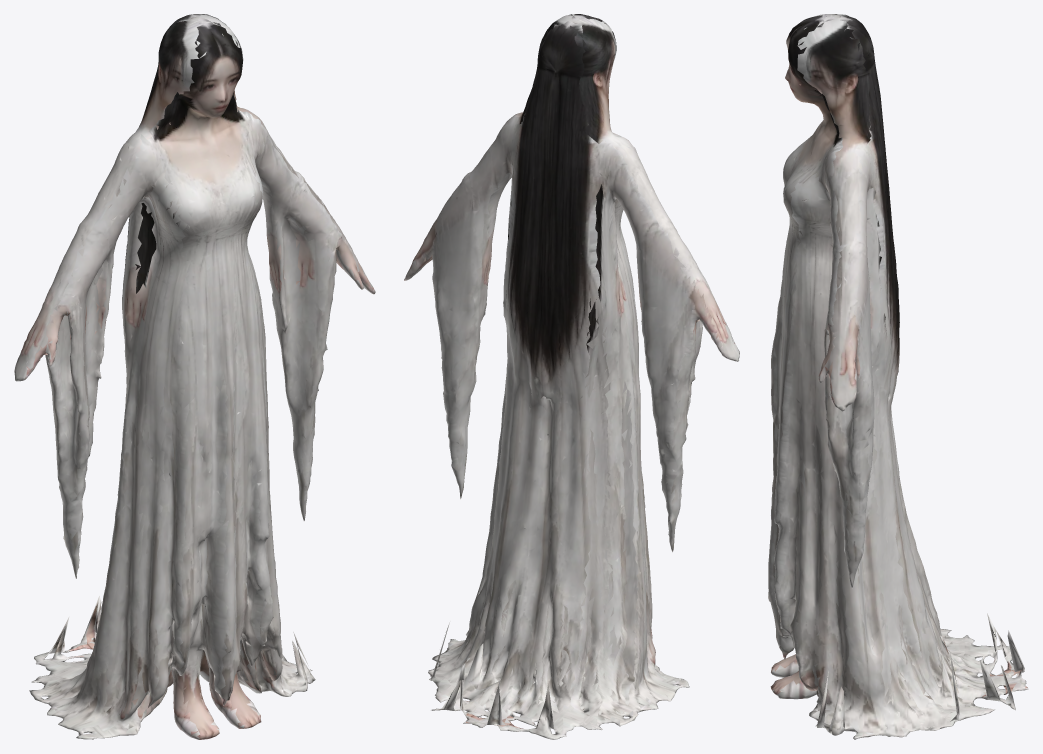
The model's file is lin_v1.glb.
3 renders of one model, left to right at view 1: azimuth 30°, elevation 25°; view 2: azimuth 150°, elevation 25°; view 3: azimuth 270°, elevation 25°, orthographic. The views are drawn at different scales.
Parts seen in each view (by area): view 1: geometry_0; view 2: geometry_0; view 3: geometry_0.
Boxes of the visible parts, x1,y1,x2,y2 form: geometry_0: [14, 14, 375, 739]; geometry_0: [404, 14, 739, 739]; geometry_0: [768, 14, 1028, 739].
Bounding box in the file's own units: 1.07 × 1.96 × 0.6952.
1 material, 1 textured.
